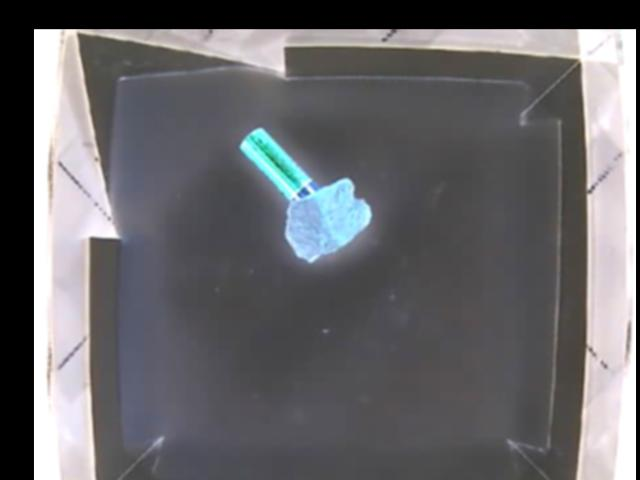Battery: (238, 128, 318, 200)
Brisk: (283, 177, 367, 260)
